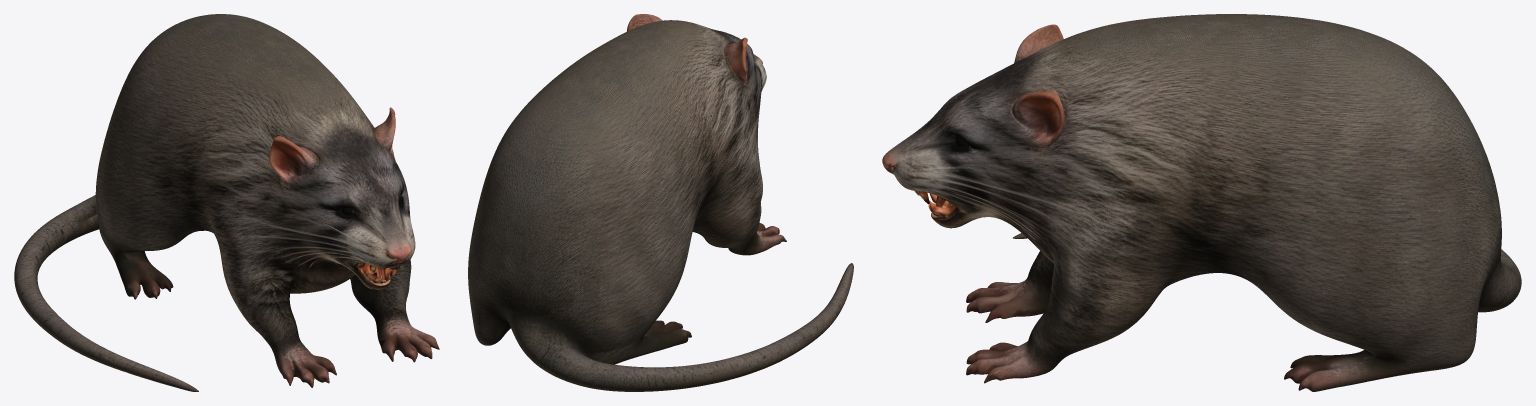
File: giant_rat.glb
3 views of the same model, side by side, from view 1: azimuth 30°, elevation 25°; view 2: azimuth 150°, elevation 25°; view 3: azimuth 270°, elevation 25° (orthographic). The views are drawn at different scales.
Parts seen in each view (by area): view 1: material; view 2: material; view 3: material.
Part boxes in pixels (bbox=[...]): material: bbox=[14, 14, 439, 391]; material: bbox=[468, 14, 853, 391]; material: bbox=[882, 14, 1521, 391].
Bounding box in the file's own units: 0.723 × 0.5908 × 1.08.
Materials: 1 (1 with a texture image).
